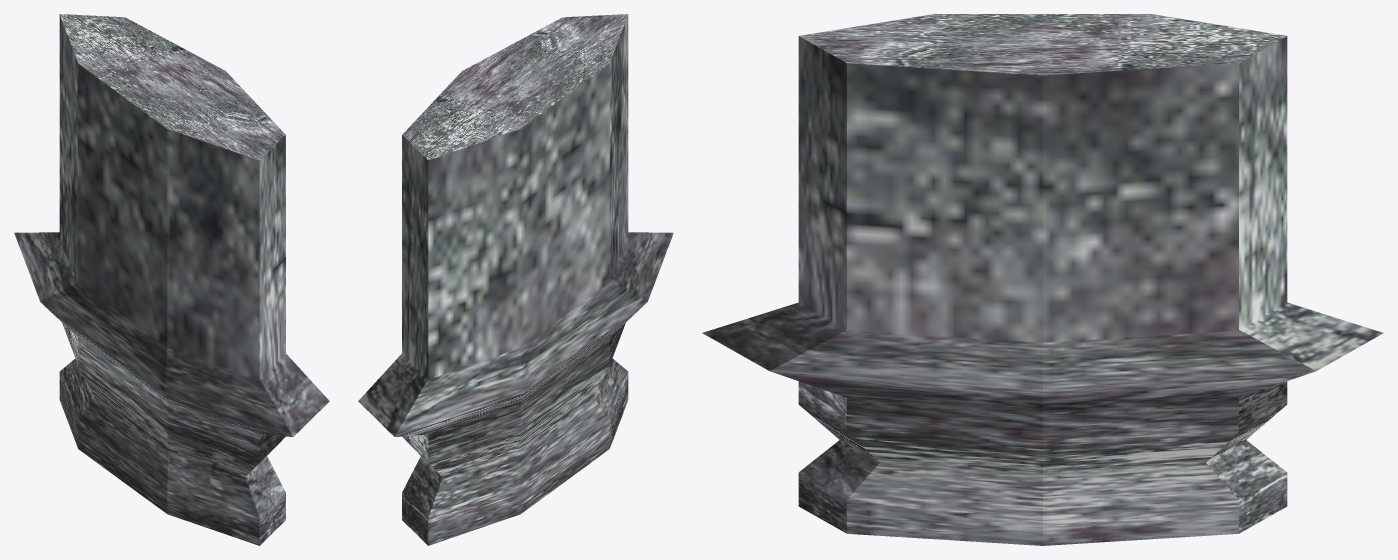
Rendered from Pillar_big.fbx.
3 renders of one model, left to right at view 1: azimuth 30°, elevation 25°; view 2: azimuth 150°, elevation 25°; view 3: azimuth 270°, elevation 25°, orthographic. The views are drawn at different scales.
Parts seen in each view (by area): view 1: pillarBig; view 2: pillarBig; view 3: pillarBig.
Boxes of the visible parts, bbox=[...] form: pillarBig: bbox=[14, 14, 329, 545]; pillarBig: bbox=[358, 14, 673, 545]; pillarBig: bbox=[702, 14, 1383, 545].
Bounding box in the file's own units: 773 × 1977 × 2597.
Materials: 1 (1 with a texture image).
